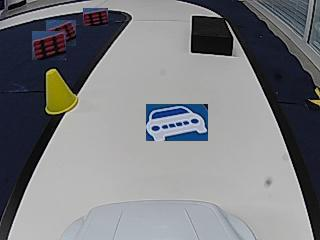block: (191, 16, 232, 55)
cone: (45, 70, 78, 114)
